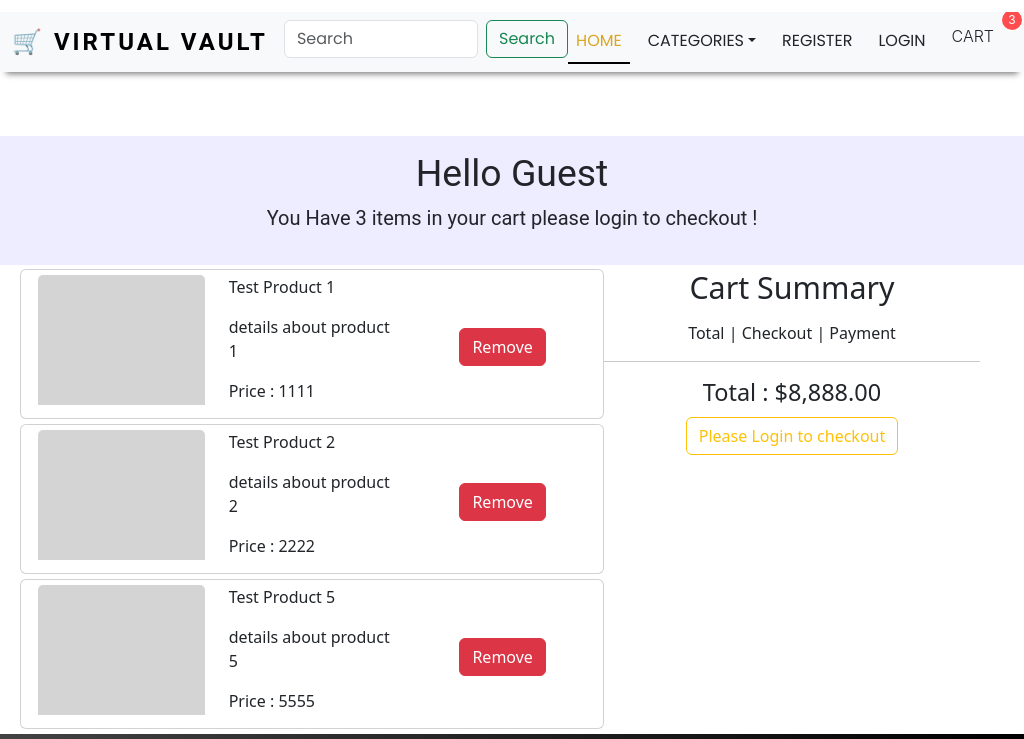
Test: CartPage › total price calculation after removing item
The image size is (1024, 739).
Expected: the text "Test Product 1" is shown, [229,276,335,298]
Expected: the text "Price : 1111" is shown, [229,380,315,402]
Click the button "Remove" next to "details about product 2" at (503, 502), box [459,483,546,521]
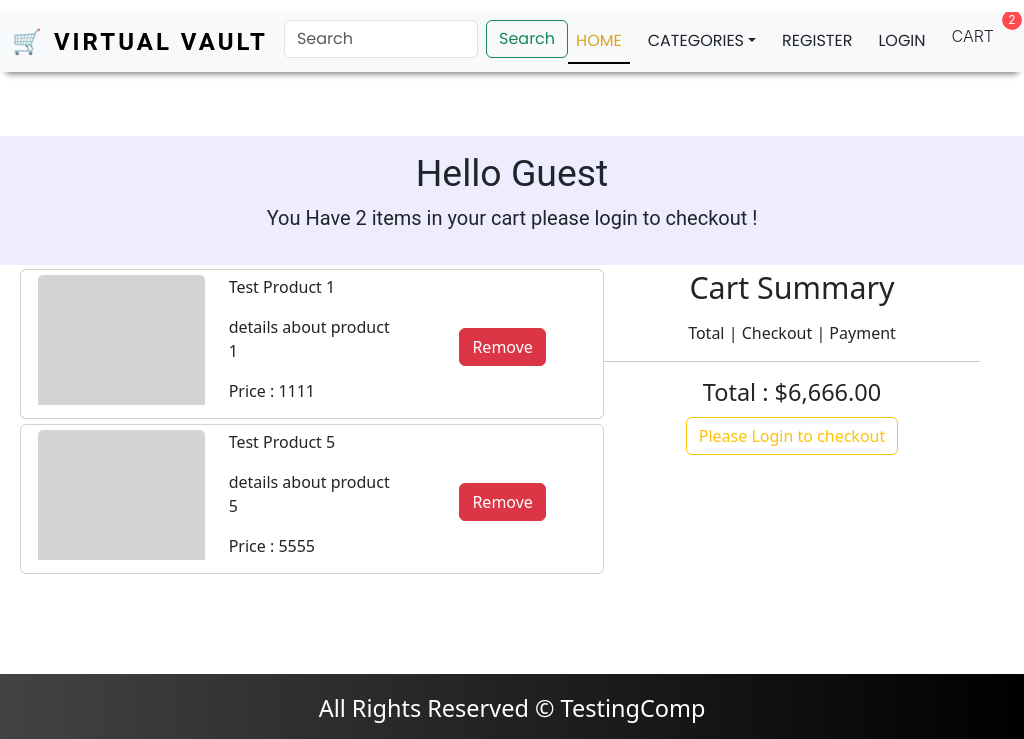
Now the heading "Total : $6,666.00" is shown, box [703,376,881,408]
